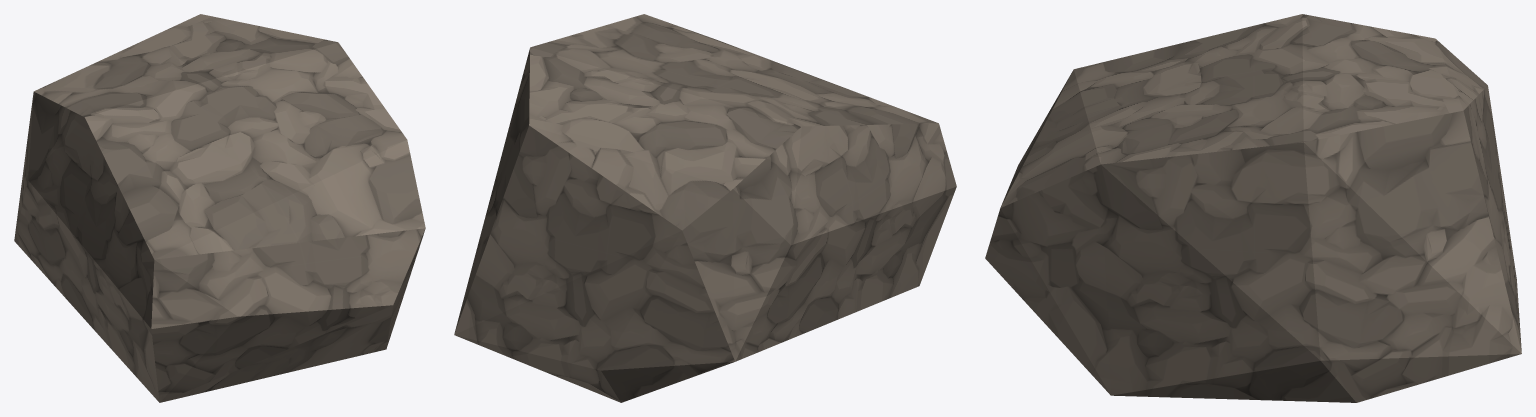
3 views of the same model, side by side, from view 1: azimuth 30°, elevation 25°; view 2: azimuth 150°, elevation 25°; view 3: azimuth 270°, elevation 25° (orthographic). The views are drawn at different scales.
Visible parts, largest first — view 1: SM_Rock_Small_02; view 2: SM_Rock_Small_02; view 3: SM_Rock_Small_02.
Boxes of the visible parts, x1=… form: SM_Rock_Small_02: x1=14, y1=14, x2=425, y2=402; SM_Rock_Small_02: x1=454, y1=14, x2=956, y2=402; SM_Rock_Small_02: x1=985, y1=14, x2=1521, y2=402.
Bounding box in the file's own units: 0.392 × 0.2873 × 0.5112.
Materials: 1 (1 with a texture image).
